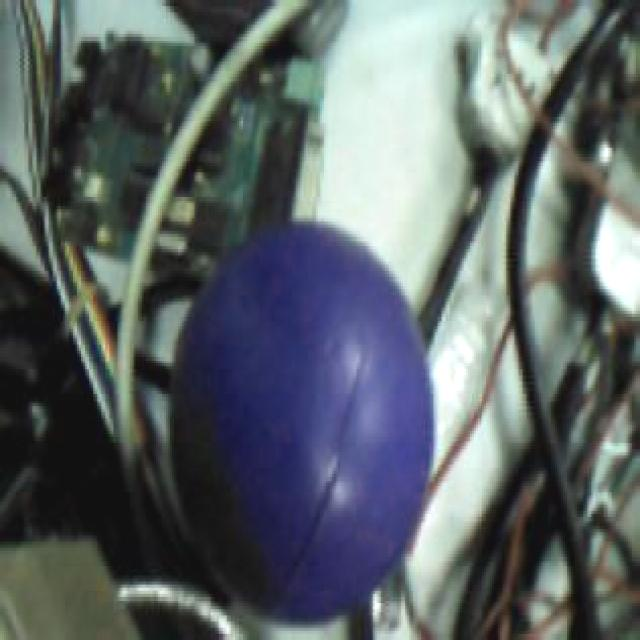BallPurple: (165, 218, 435, 623)
